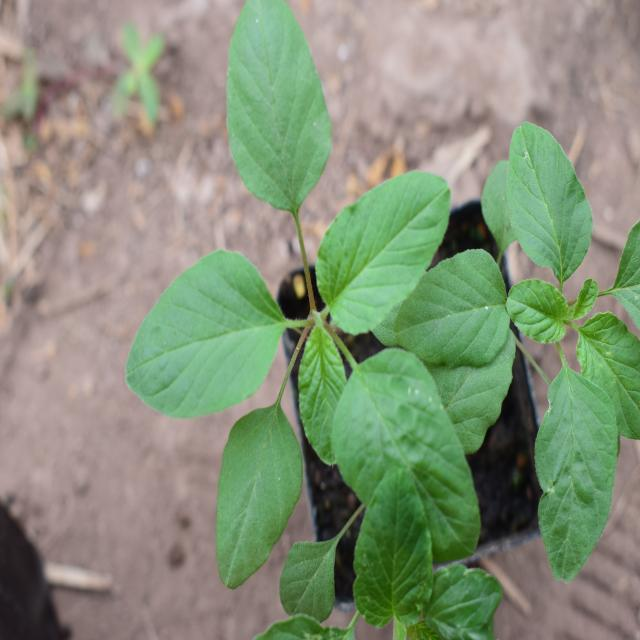pigweed: (123, 0, 480, 545)
